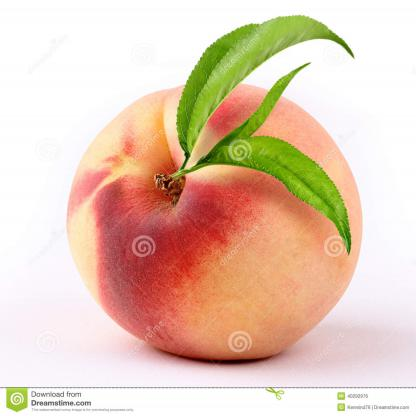Peach leaf: (179, 12, 358, 163), (208, 137, 352, 257), (194, 64, 314, 173)
